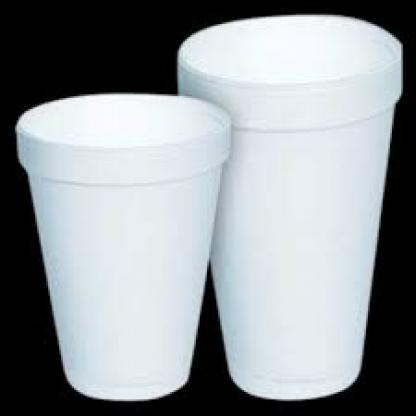paper: (172, 13, 401, 399), (11, 90, 229, 398)
